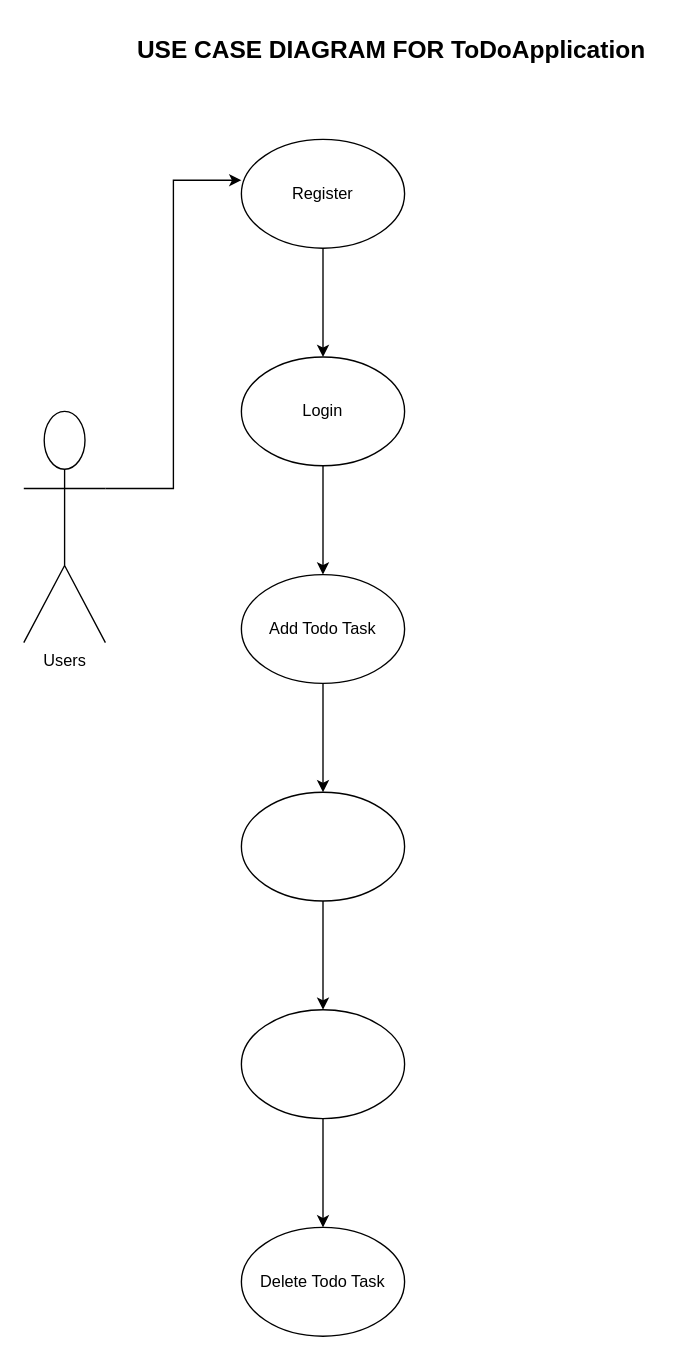
Image size: 687x1360. Some labels were removed from this diagram. The shapes that lost their labels are listed below. From the top down, each one's centre as x and y in pixels, then its label:
At [322,846]: "View Todo Task by search and filter Todos".
At [322,1063]: "Update Todo Task".
